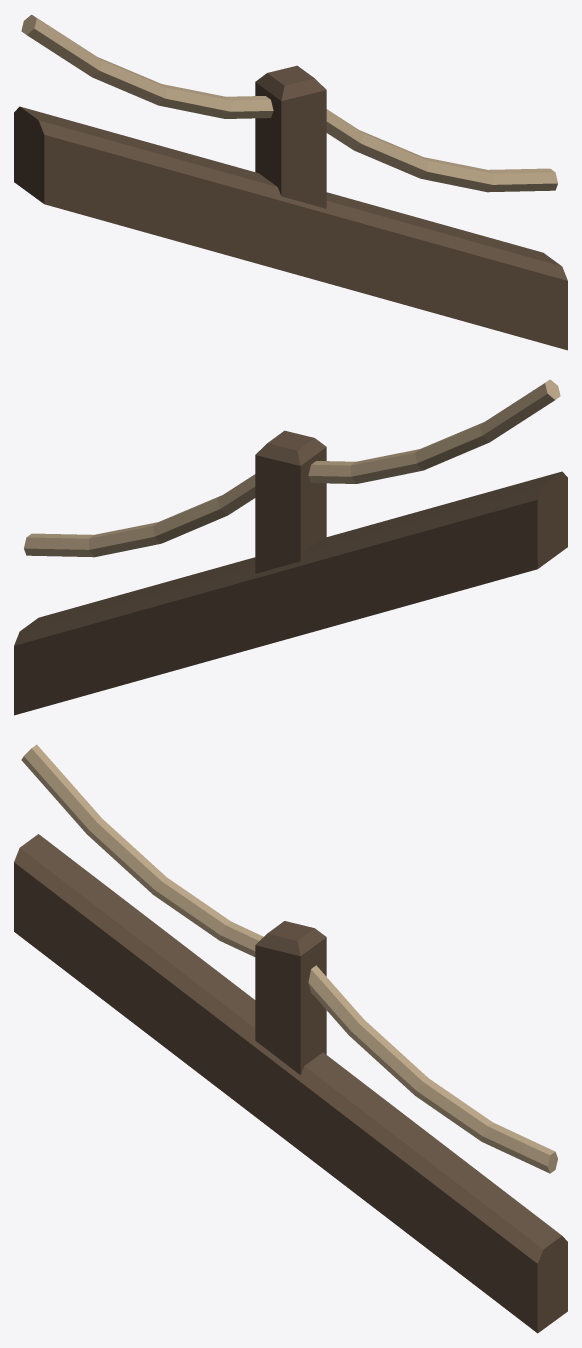
File: Wood_Rope_Stairs.obj
The picture shows the model from 3 angles, top to bottom: view 1: azimuth 30°, elevation 25°; view 2: azimuth 150°, elevation 25°; view 3: azimuth 330°, elevation 25°; orthographic projection.
Visible parts, largest first — view 1: object1, object3, object4, object2; view 2: object1, object3, object4, object2; view 3: object1, object3, object2, object4.
Boxes of the visible parts, x1,y1,x2,y2 form: object1: (14,106,567,350); object3: (255,65,326,208); object4: (21,14,273,118); object2: (326,109,557,192); object1: (14,471,567,715); object3: (255,430,326,573); object4: (308,379,560,483); object2: (24,474,255,557); object1: (14,834,567,1333); object3: (255,921,326,1074); object2: (308,965,557,1173); object4: (21,744,263,956).
Bounding box in the file's own units: 2.02 × 1.64 × 0.2.
